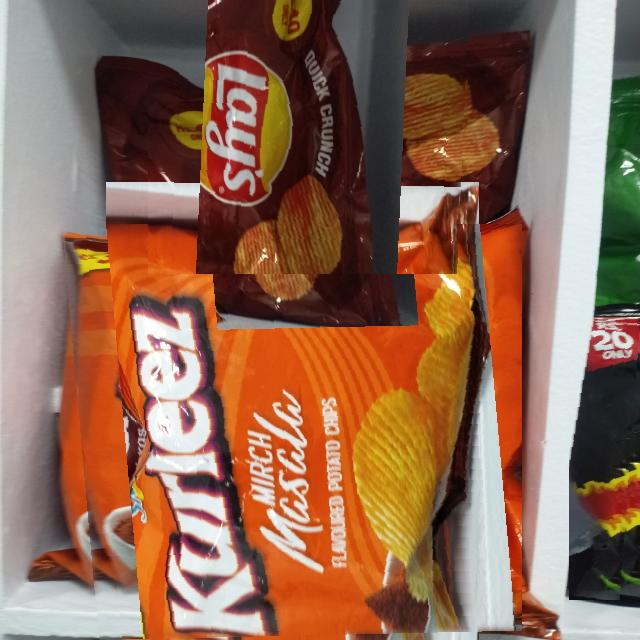Plastic: (62, 224, 522, 640), (148, 0, 469, 274), (569, 317, 640, 600)
